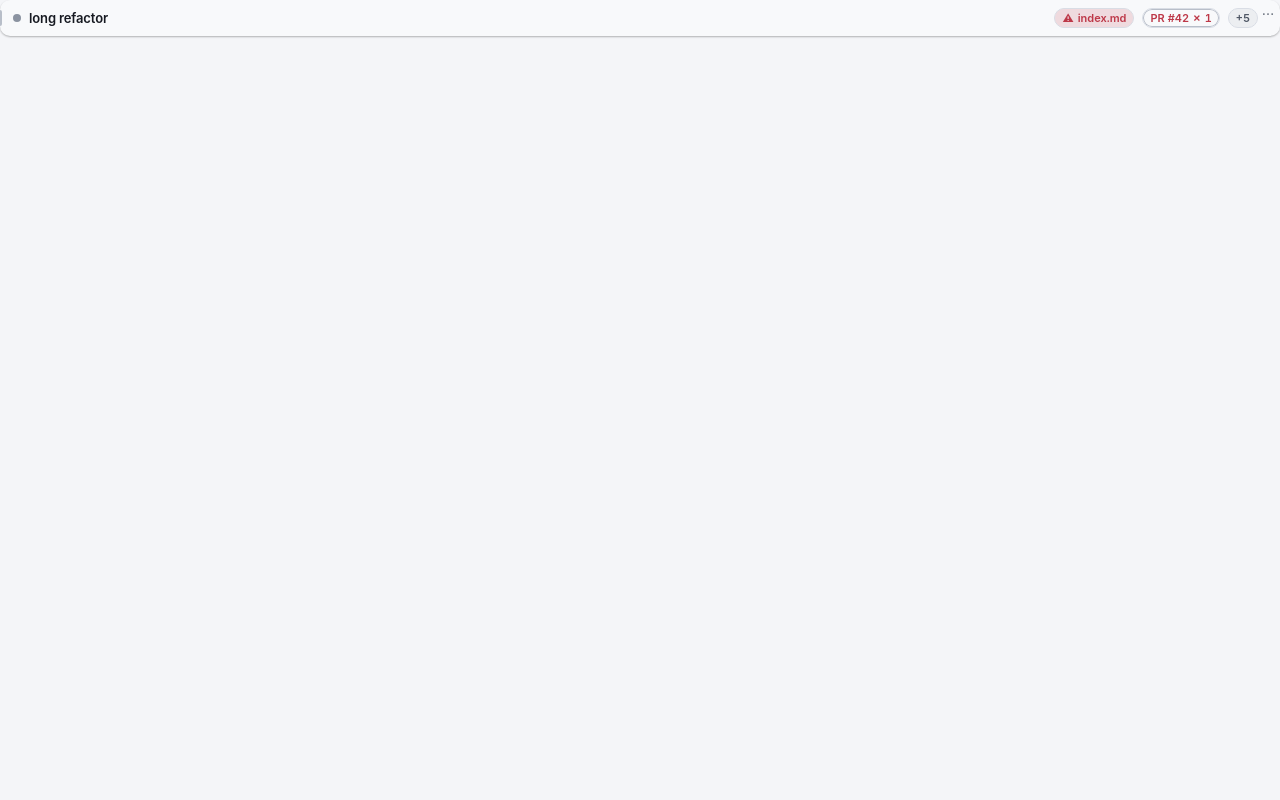
Test: a compact row with more chips than two › lists the folded chips in a popover that opens without opening the row
Click the button with class "chip-fold": x=1243, y=18 [1228,8,1258,28]
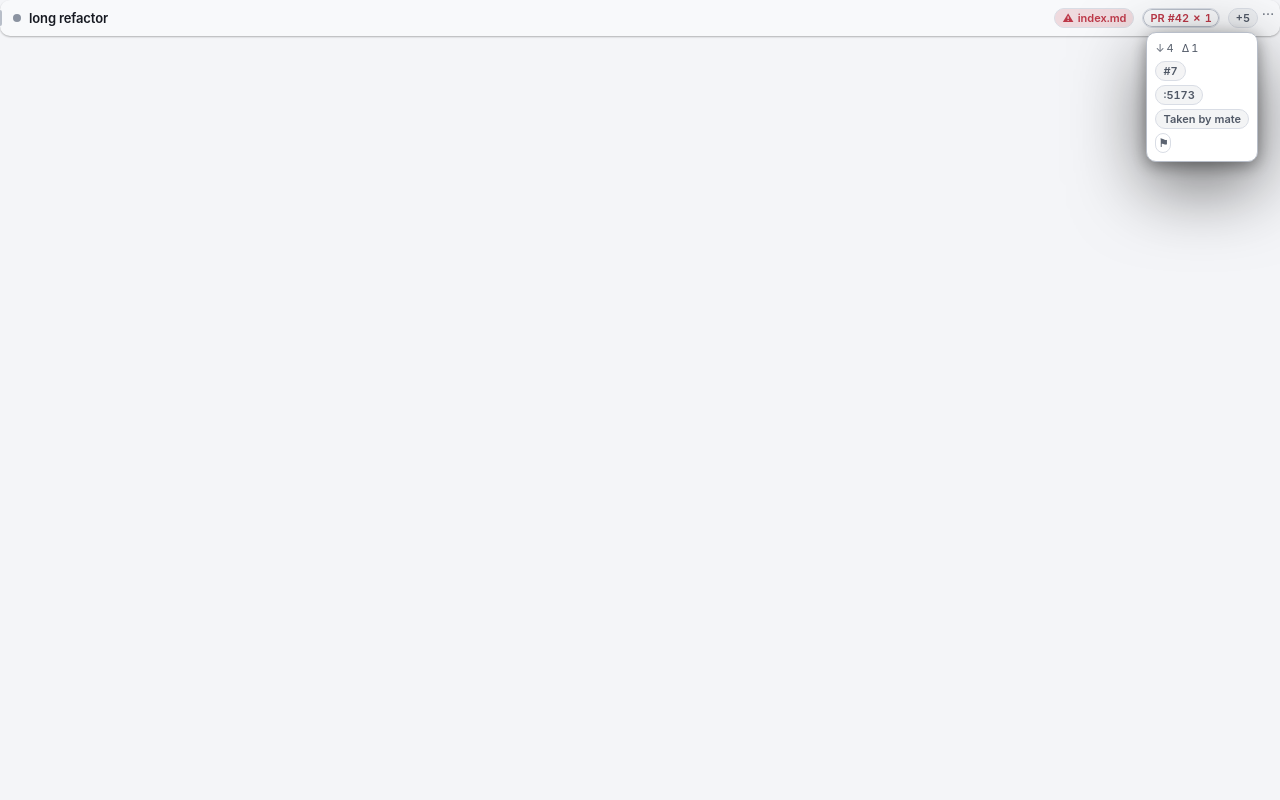
Check: the text "Taken by mate" is shown, box [1155,109,1249,129]
Check: the link ":5173" is shown, box [1155,85,1203,105]
Press Escape in the dialog named "More on long refactor", box [1146,32,1258,162]
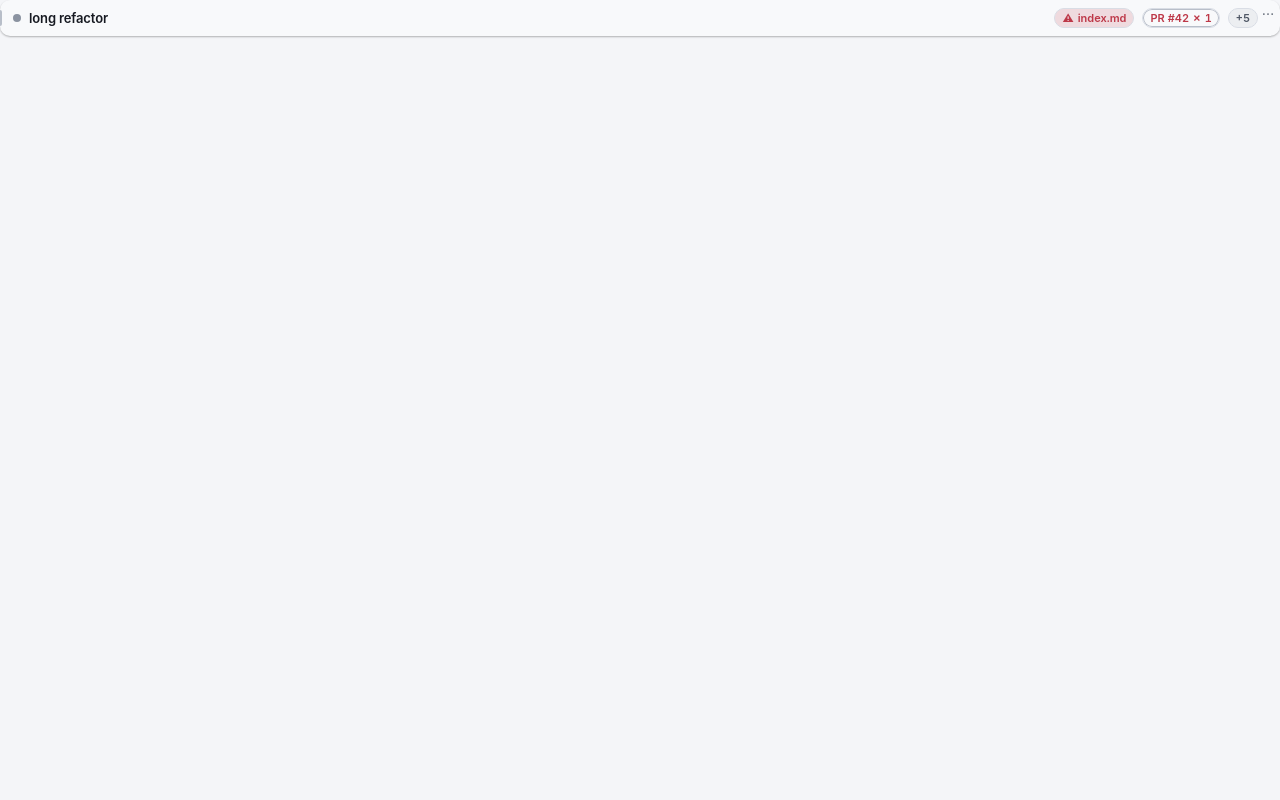
Check: the dialog is gone
